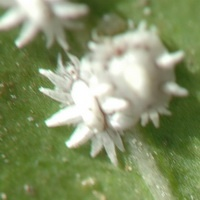insect: (39, 23, 187, 164), (89, 23, 187, 130), (39, 55, 123, 165), (0, 0, 87, 51)
